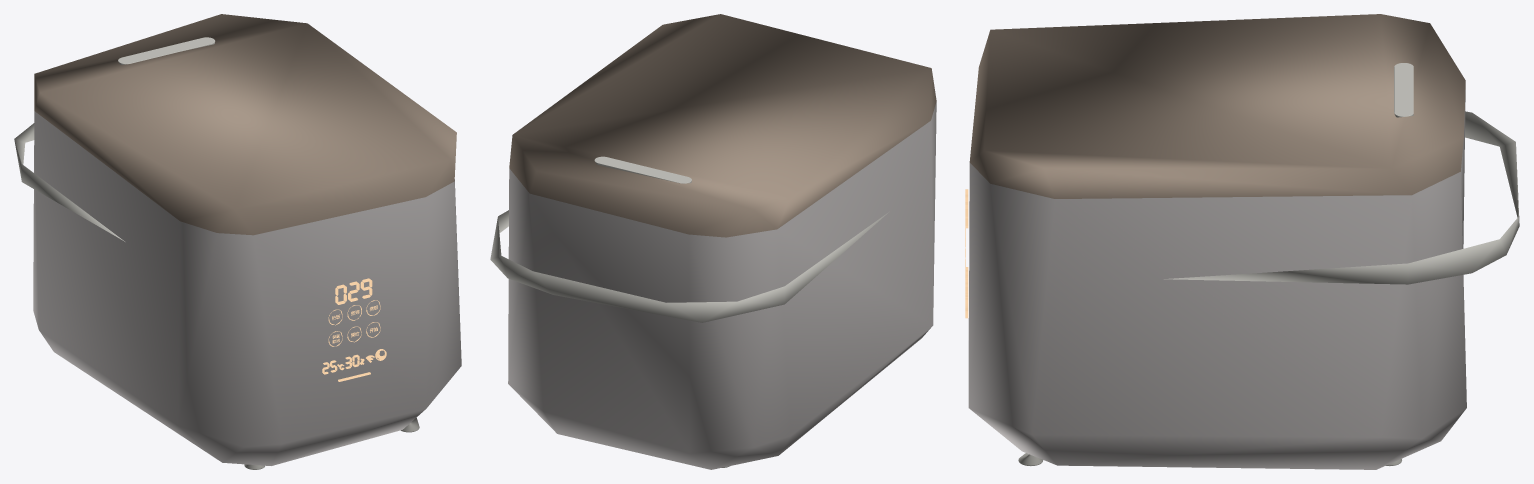
The model's file is Rice_cooker.glb.
3 views of the same model, side by side, from view 1: azimuth 30°, elevation 25°; view 2: azimuth 150°, elevation 25°; view 3: azimuth 270°, elevation 25° (orthographic). The views are drawn at different scales.
Parts seen in each view (by area): view 1: 3d66-Editable_mesh-21277239-012, 3d66-Editable_mesh-21277239-007; view 2: 3d66-Editable_mesh-21277239-012; view 3: 3d66-Editable_mesh-21277239-012.
Boxes of the visible parts, left/top/right/bottom form: 3d66-Editable_mesh-21277239-012: left=14, top=14, right=461, bottom=469; 3d66-Editable_mesh-21277239-007: left=322, top=278, right=386, bottom=381; 3d66-Editable_mesh-21277239-012: left=490, top=14, right=936, bottom=469; 3d66-Editable_mesh-21277239-012: left=968, top=14, right=1519, bottom=469.
Size of the model in its own units: 0.6758 by 0.6308 by 0.9741.
Materials: 2 (2 with a texture image).
